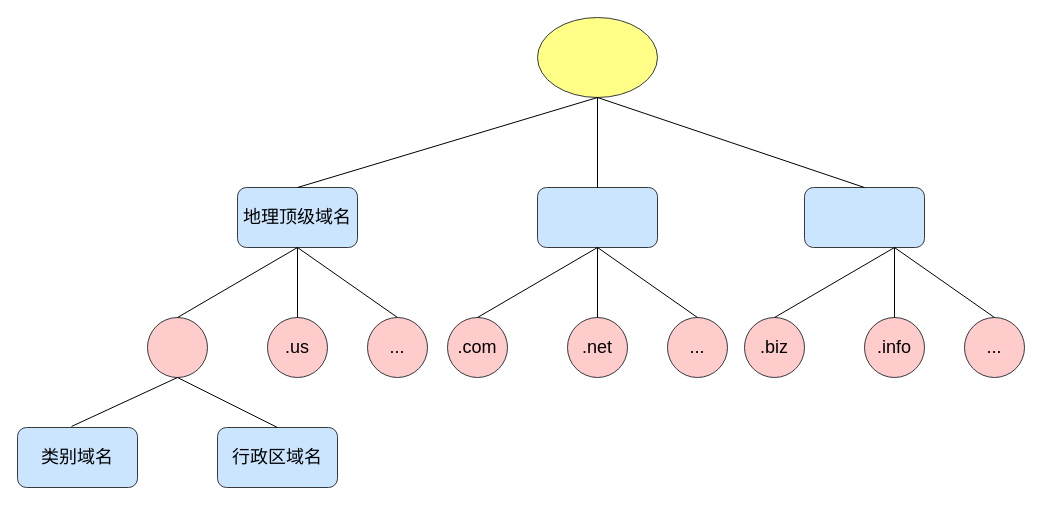
Image size: 1042x505. Some labels were removed from this diagram. Each missing label, with the centre of its shape:
.cn: [177,347]
新增顶级域名: [864,217]
根域名服务器: [597,57]
类别级别域名: [597,217]
